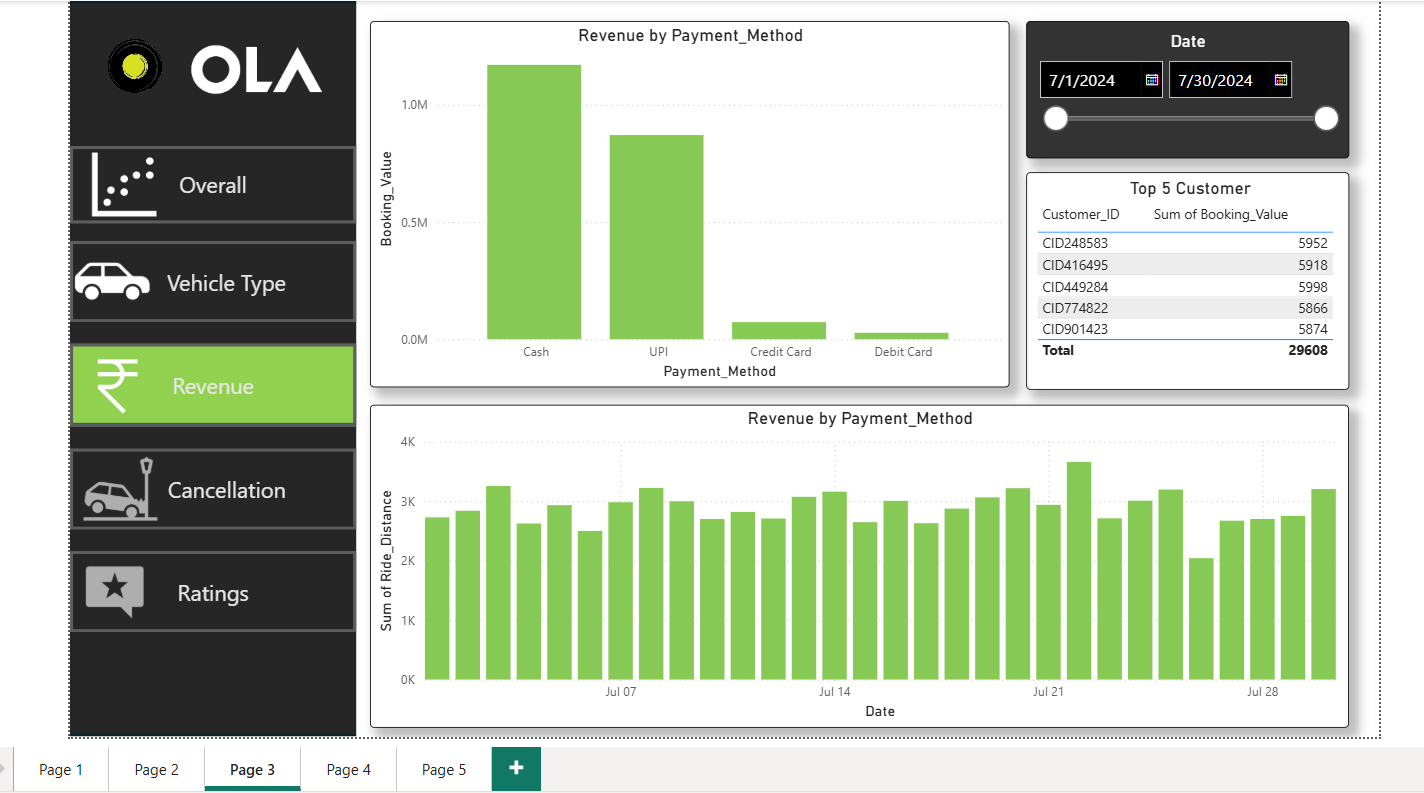

This screenshot's page, from the dashboard's own definition file:
{"tool":"powerbi","page":{"name":"Page 3","canvas":[1280,720],"ordinal":2},"visuals":[{"type":"image","box":[0,0,280,720.2],"z":0},{"type":"image","box":[118.6,33,128.4,68.5],"z":1000},{"type":"image","box":[8.6,17.1,110.1,92.9],"z":2000},{"type":"actionButton","box":[0,141.8,280,75.8],"z":3000},{"type":"image","box":[8.6,141.8,89.3,75.8],"z":4000},{"type":"image","box":[0,335.1,280,79.5],"z":5000},{"type":"image","box":[0,234.8,83.2,79.5],"z":6000},{"type":"actionButton","box":[0,234.8,280,79.5],"z":7000},{"type":"actionButton","box":[0,335.1,280,81.9],"z":8000},{"type":"image","box":[8.6,343.6,77,67.3],"z":9000},{"type":"actionButton","box":[0,437.8,280,79.5],"z":10000},{"type":"image","box":[1.2,437.8,96.6,79.5],"z":11000},{"type":"actionButton","box":[0,538,280,79.5],"z":12000},{"type":"image","box":[2.4,539.3,83.2,79.5],"z":13000},{"type":"slicer","title":"Date","fields":{"Values":["book.Date"]},"box":[935.9,19.2,315.6,134.5],"z":14000},{"type":"tableEx","title":"Top 5 Customer","fields":{"Values":["book.Customer_ID","Sum(book.Booking_Value)"]},"box":[935.9,167.4,315.6,212.7],"z":15000},{"type":"columnChart","title":"Revenue by Payment_Method","fields":{"Y":["Sum(book.Booking_Value)"],"Category":["book.Payment_Method"]},"box":[293.7,19.2,625.7,358.1],"z":16000},{"type":"columnChart","title":"Revenue by Payment_Method","fields":{"Y":["Sum(book.Ride_Distance)"],"Category":["book.Date"]},"box":[293.7,395.2,957.8,315.6],"z":17000}]}

Visuals, with their boxes on the page's 1280x720 design canvas (x1, y1, x2, y2). These are canvas units, not pixel positions in the 1424x793 screenshot, which may show the page scaled, cropped or inside an application window:
image: crop(0, 0, 280, 720)
image: crop(119, 33, 247, 102)
image: crop(9, 17, 119, 110)
actionButton: crop(0, 142, 280, 218)
image: crop(9, 142, 98, 218)
image: crop(0, 335, 280, 415)
image: crop(0, 235, 83, 314)
actionButton: crop(0, 235, 280, 314)
actionButton: crop(0, 335, 280, 417)
image: crop(9, 344, 86, 411)
actionButton: crop(0, 438, 280, 517)
image: crop(1, 438, 98, 517)
actionButton: crop(0, 538, 280, 618)
image: crop(2, 539, 86, 619)
"Date" slicer: crop(936, 19, 1252, 154)
"Top 5 Customer" tableEx: crop(936, 167, 1252, 380)
"Revenue by Payment_Method" columnChart: crop(294, 19, 919, 377)
"Revenue by Payment_Method" columnChart: crop(294, 395, 1252, 711)
